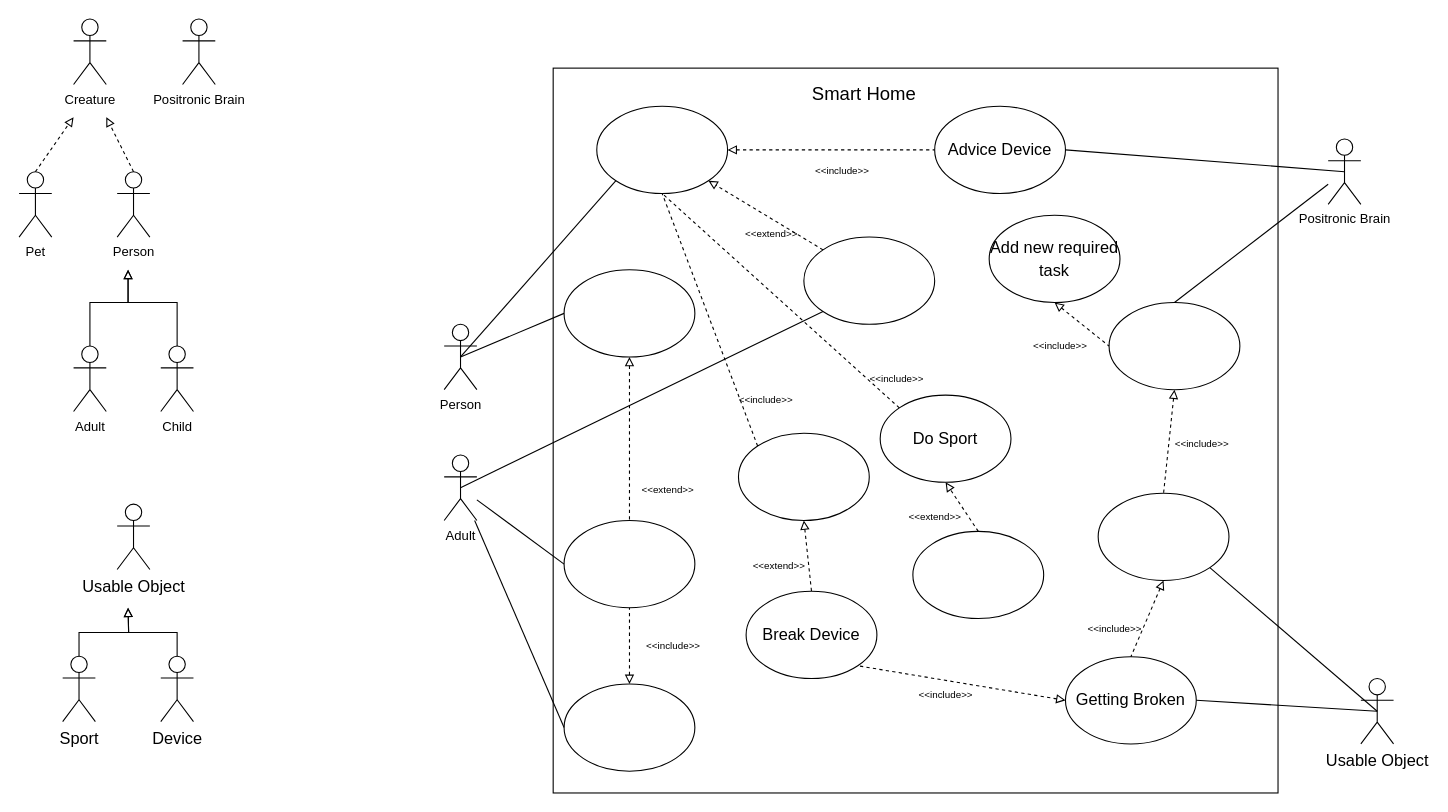
Some shapes in this 1448 by 812 pixel diagram are drawn without their labels. Here are the shapes that lost their labels. From the top down, the centre of each, then its label:
At (x=662, y=149): "Find Activity".
At (x=869, y=280): "Do the required tasks".
At (x=629, y=313): "Use Fridge".
At (x=1174, y=345): "Handle Event".
At (x=803, y=476): "Use Device".
At (x=1163, y=536): "Notify Observer".
At (x=629, y=563): "Refill Fridge".
At (x=978, y=574): "Go out from home by bike".
At (x=629, y=727): "Go out from home for food".
